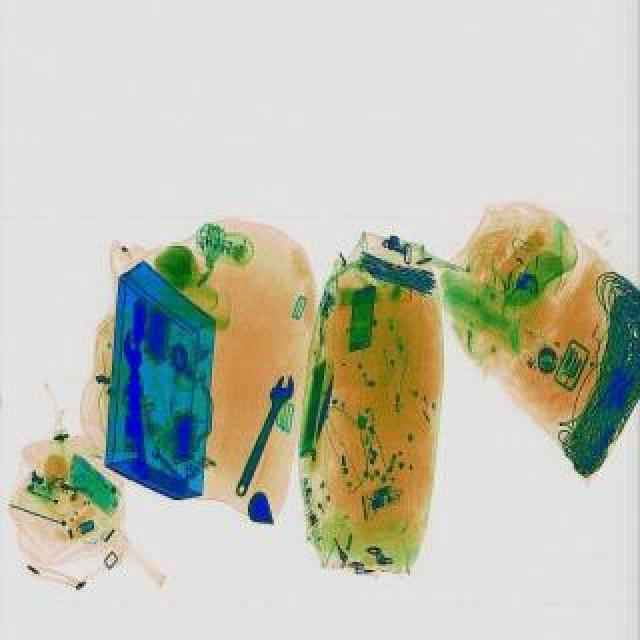scissors: (230, 370, 302, 498)
